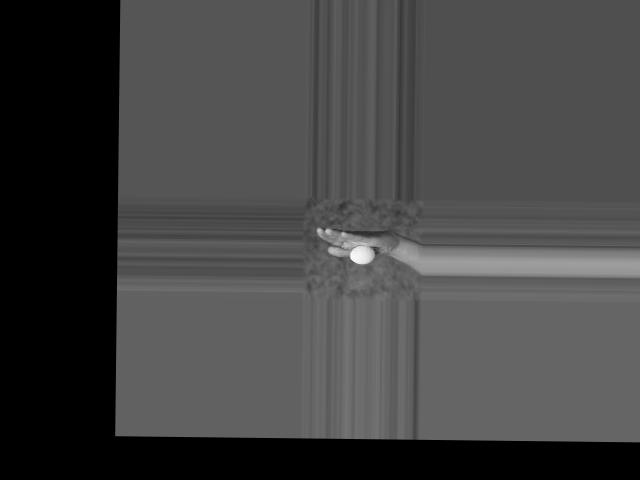egg: (350, 245, 375, 264)
